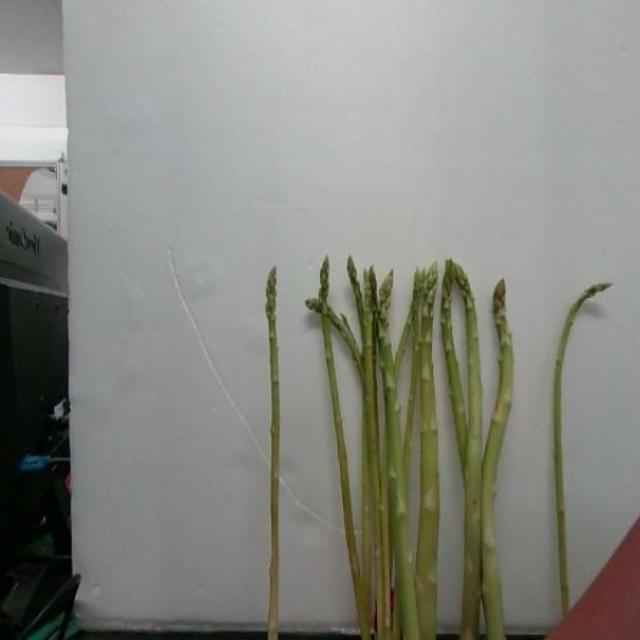aspargus: (555, 284, 608, 631), (415, 262, 441, 640), (266, 268, 284, 640)
